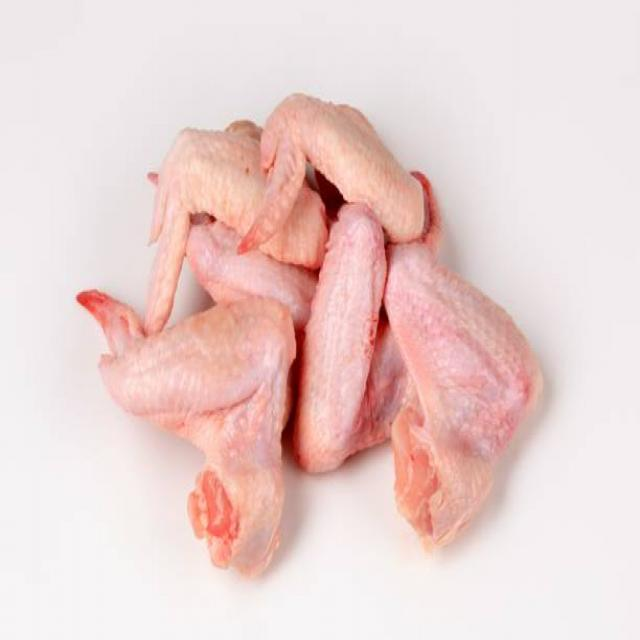chicken wing: (79, 290, 298, 566), (378, 253, 546, 551), (230, 87, 446, 250)
